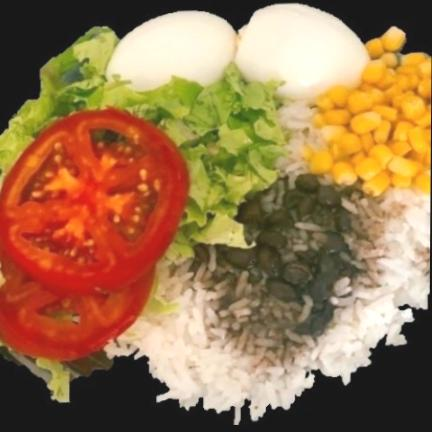beans: (185, 174, 372, 352)
corn: (298, 24, 431, 201)
egg: (113, 3, 370, 100)
rice: (112, 107, 430, 416)
salad: (0, 30, 292, 316)
tomato: (0, 110, 190, 363)
